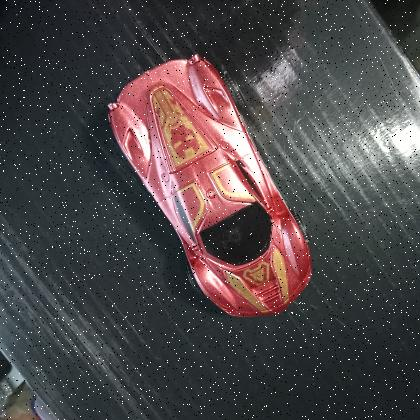Car: (104, 47, 318, 325)
